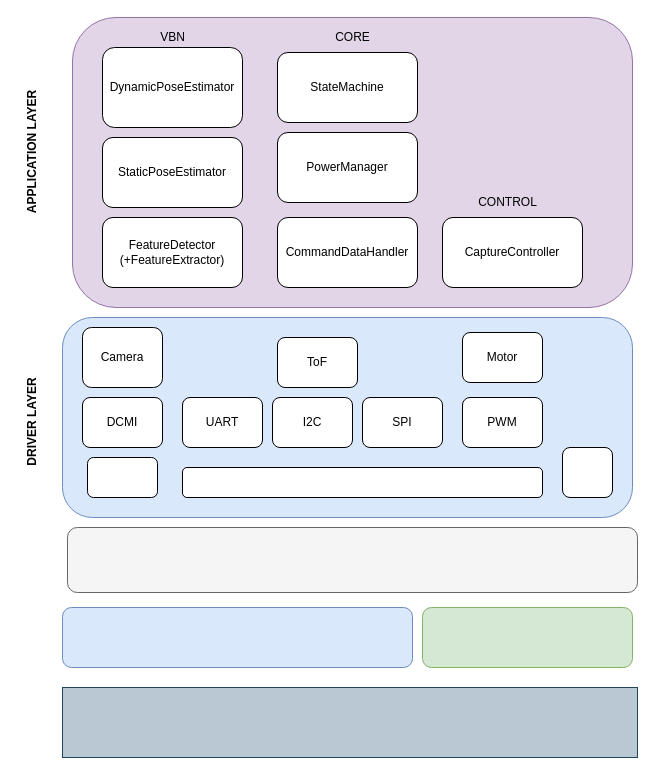
Image size: 655x775. Some labels were removed from this diagram. The shapes that lost their labels are listed below. From the top down, each one's centre as x and y in pixels, then its label:
the point at 122,477: MCU Init
the point at 362,482: I/O
the point at 587,472: WDT
the point at 352,559: OS ABSTRACTION LAYER (OSAL)
the point at 237,637: STM32 HAL
the point at 527,637: FreeRTOS
the point at 350,722: STM32 MICROCONTROLLER
